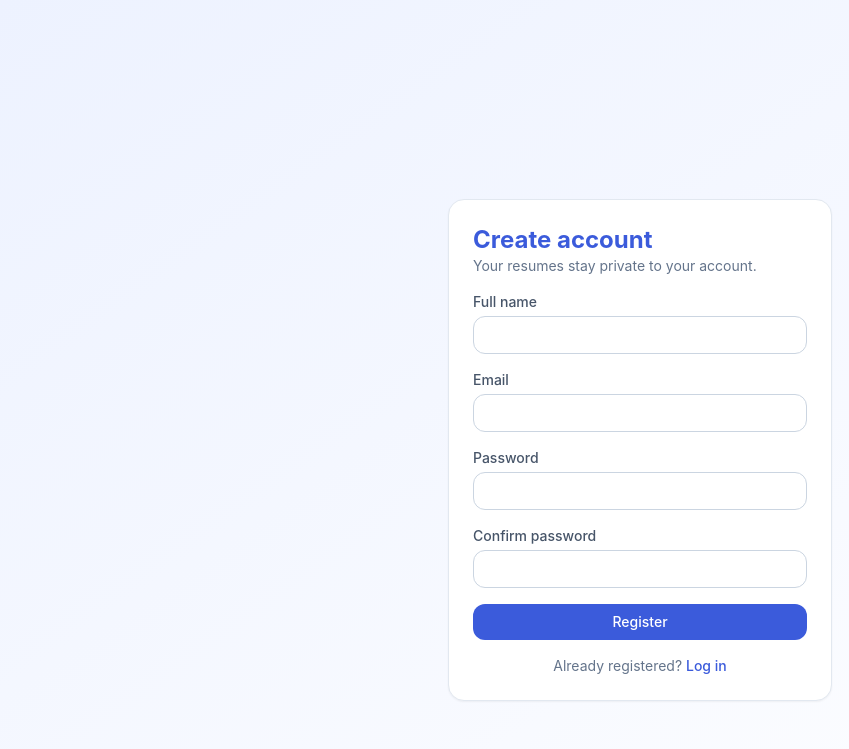
Scenario: register › rejects mismatched confirmation
Type "Shradha" into the field labelled "Full name" at (640, 335), box [473,316,807,354]
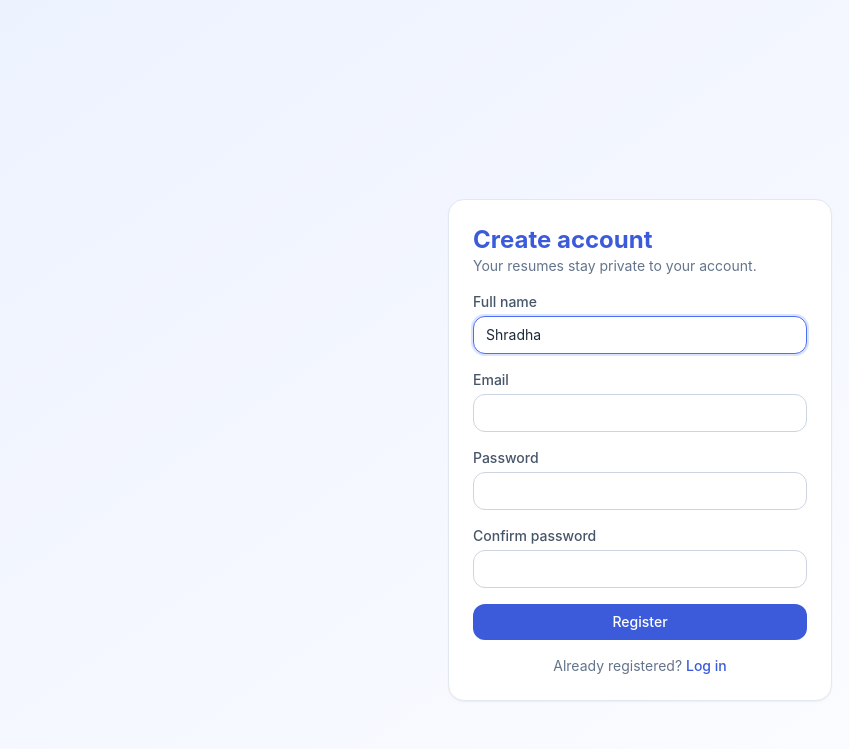
Type "s@example.com" into the field labelled "Email" at (640, 413), box [473,394,807,432]
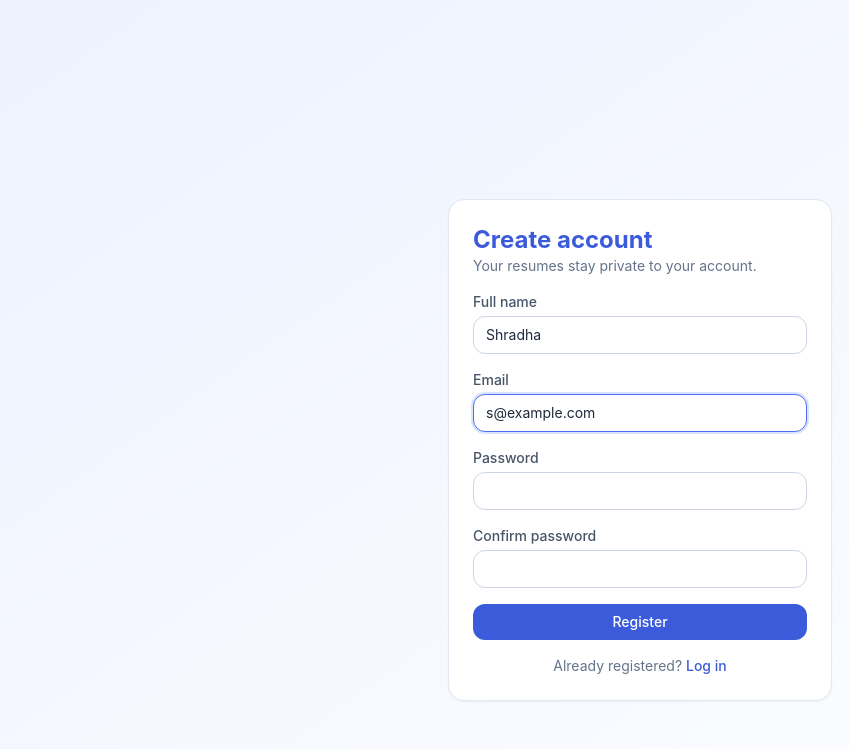
Type "Passw0rd123" into the password field labelled "Password" at (640, 491), box [473,472,807,510]
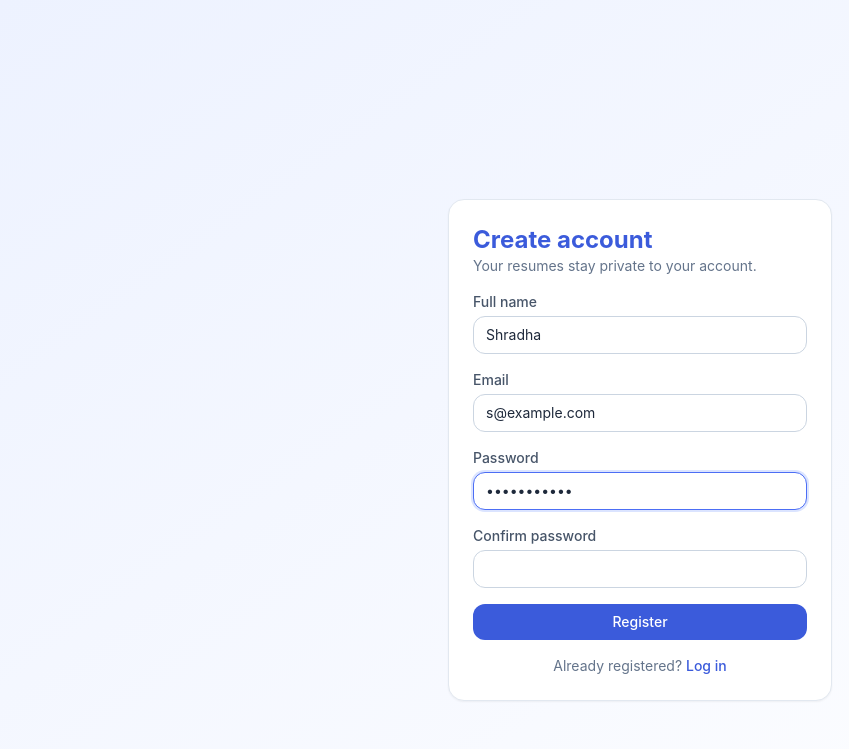
Type "Different123" into the password field labelled "Confirm password" at (640, 569), box [473,550,807,588]
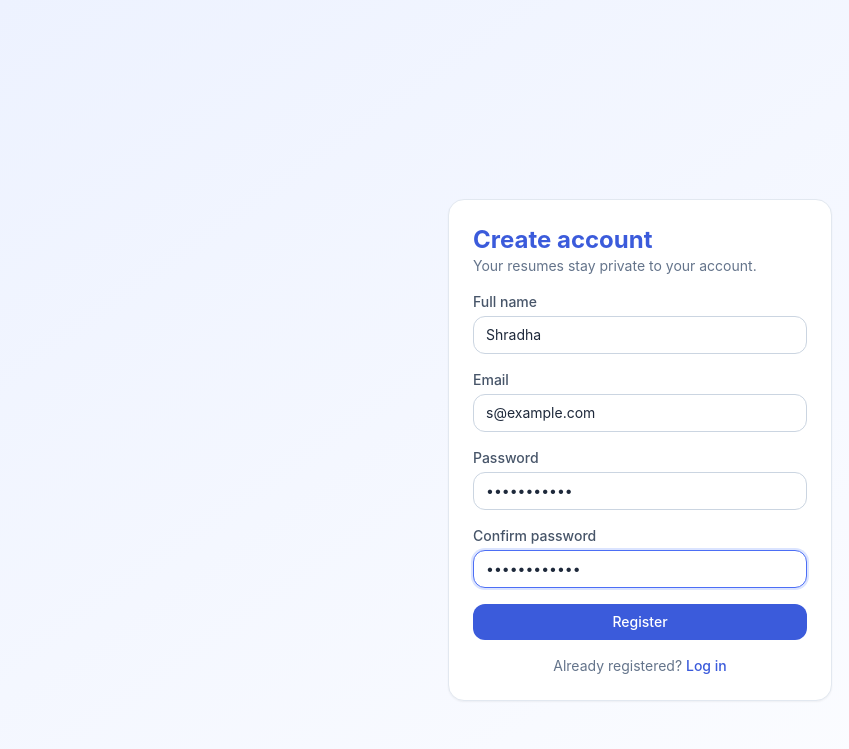
Click the button "Register" at (640, 622), box [473,604,807,640]
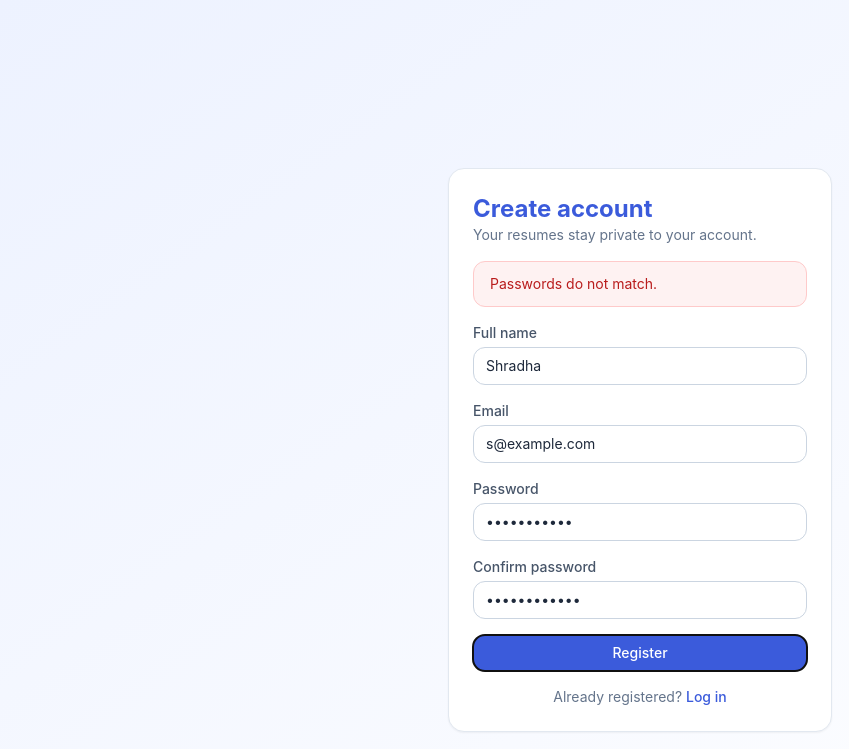
Expected: the message shows "do not match", [490,275,657,292]
